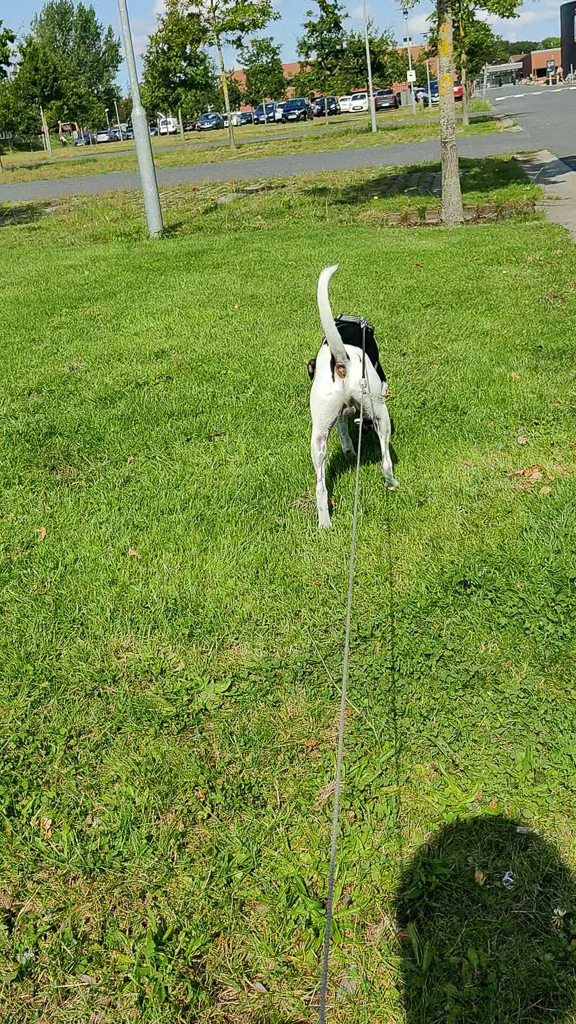Dog: (277, 253, 422, 558)
